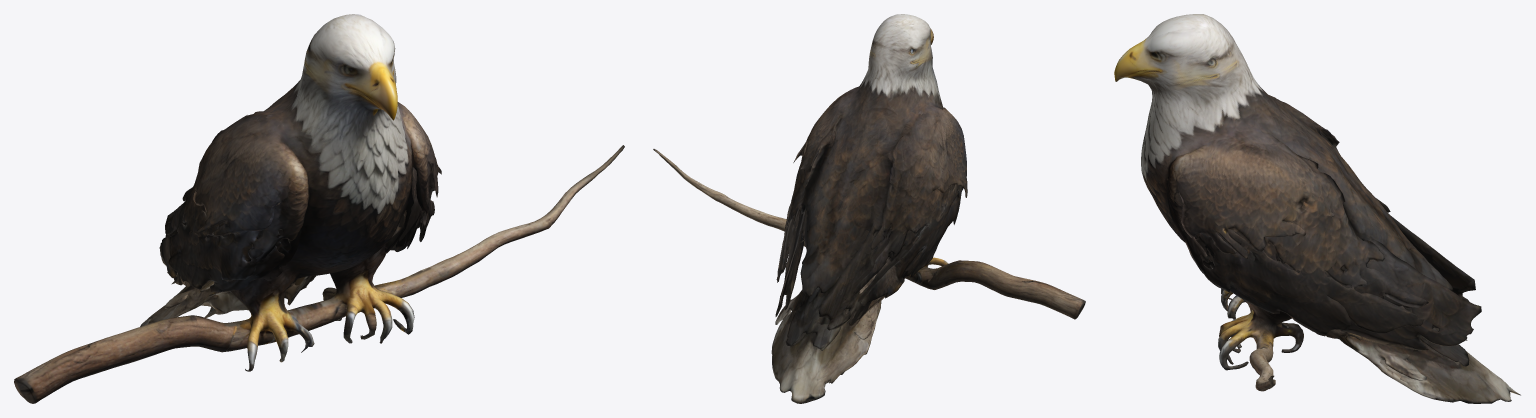
File: a_ultra_realistic_bal_1209144531_refine.fbx
The picture shows the model from 3 angles, left to right: view 1: azimuth 30°, elevation 25°; view 2: azimuth 150°, elevation 25°; view 3: azimuth 270°, elevation 25°; orthographic projection. The views are drawn at different scales.
Visible parts, largest first — view 1: Mesh1_Mesh1.041; view 2: Mesh1_Mesh1.041; view 3: Mesh1_Mesh1.041.
Part boxes in pixels (x1,y1,x2,y2): Mesh1_Mesh1.041: [14, 14, 624, 403]; Mesh1_Mesh1.041: [653, 14, 1085, 403]; Mesh1_Mesh1.041: [1114, 14, 1520, 403].
Bounding box in the file's own units: 200 × 131 × 124.
1 material, 1 textured.
